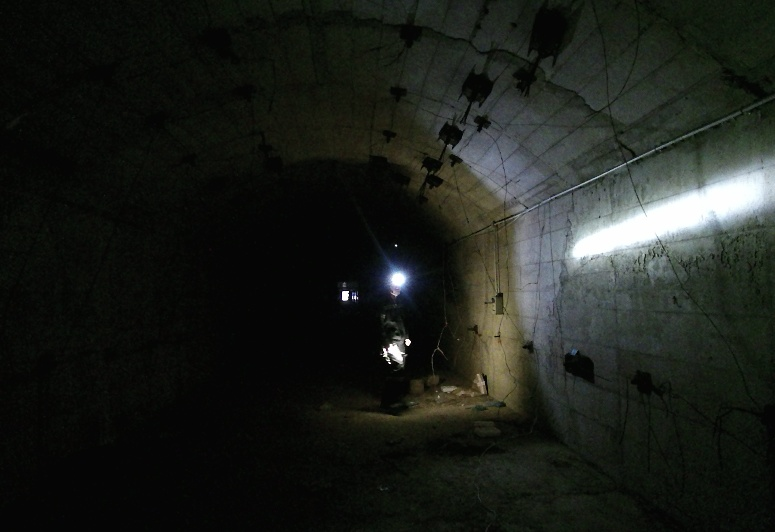person: (365, 275, 412, 412)
